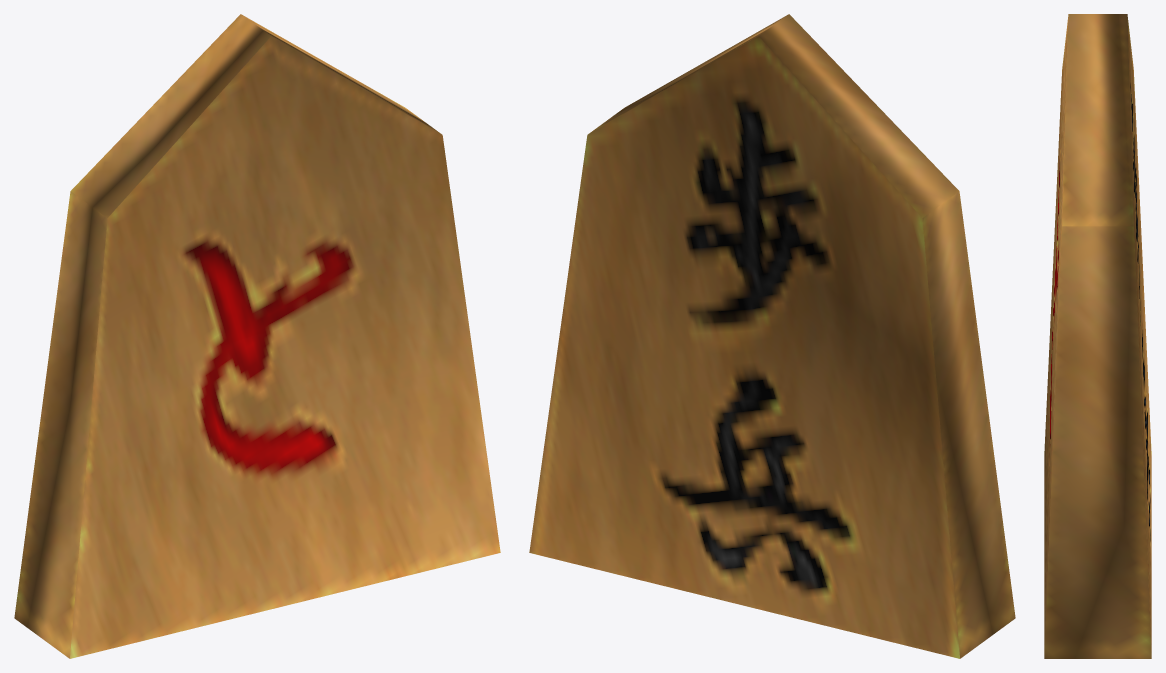
File: sweet.ico.obj
3 renders of one model, left to right at view 1: azimuth 30°, elevation 25°; view 2: azimuth 150°, elevation 25°; view 3: azimuth 270°, elevation 25°, orthographic. The views are drawn at different scales.
Bounding box in the file's own units: 3.81 × 4.74 × 0.8506.
1 material, 1 textured.
